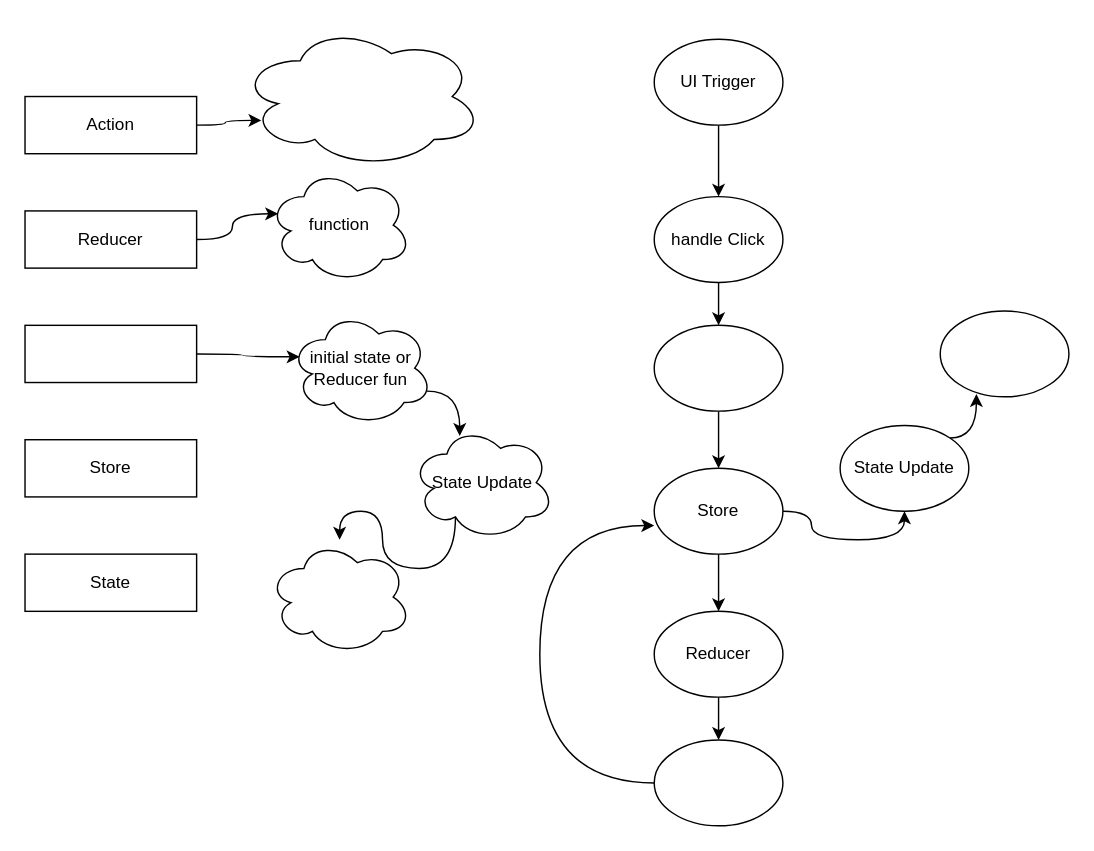
Some shapes in this 1094 by 851 pixel diagram are drawn without their labels. The box of each missing label's shape, as (x1, y1, x2, y2) in pixels:
Action Dispatch: (653, 324, 783, 411)
Data: (267, 538, 411, 654)
Event or event+additional info payload: (238, 24, 483, 168)
Logic: (653, 739, 783, 826)
Slice: (24, 324, 197, 383)
UI update: (939, 310, 1069, 397)
